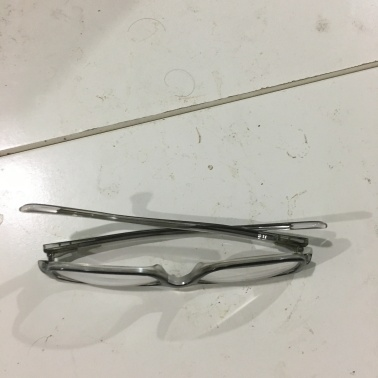glasses: (18, 197, 322, 299)
